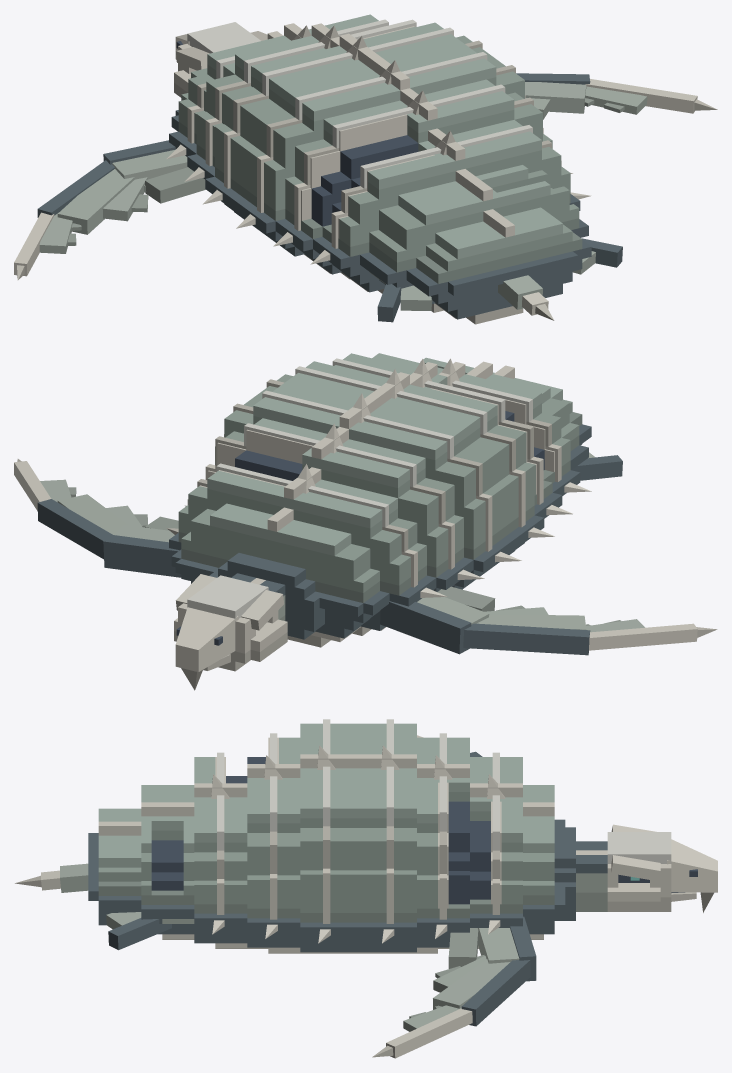
The model's file is GraveTurtle.glb.
The picture shows the model from 3 angles, top to bottom: view 1: azimuth 30°, elevation 25°; view 2: azimuth 150°, elevation 25°; view 3: azimuth 270°, elevation 25°; orthographic projection. The views are drawn at different scales.
Visible parts, largest first — view 1: Shell, WingL2, WingL1, Head, WingR3, WingR2, WingL3, Tail, FlipBL, FlipBR; view 2: Shell, Head, WingL2, WingL1, WingR2, WingR1, WingL3, WingR3, FlipBL; view 3: Shell, Head, WingR2, WingR1, WingR3, FlipBR, Tail.
Boxes of the visible parts, box(x1,y1,x2,y2) form: Shell: box(166, 14, 591, 324); WingL2: box(37, 160, 148, 234); WingL1: box(103, 140, 205, 203); Head: box(174, 22, 267, 97); WingR3: box(584, 79, 717, 114); WingR2: box(516, 73, 590, 119); WingL3: box(14, 212, 81, 280); Tail: box(498, 275, 554, 320); FlipBL: box(377, 284, 432, 322); FlipBR: box(572, 238, 622, 274); Shell: box(166, 353, 591, 647); Head: box(174, 573, 287, 690); WingL2: box(463, 605, 590, 655); WingL1: box(380, 586, 495, 654); WingR2: box(37, 494, 147, 559); WingR1: box(103, 516, 181, 577); WingL3: box(586, 619, 717, 650); WingR3: box(14, 459, 76, 510); FlipBL: box(572, 452, 622, 480); Shell: box(88, 719, 575, 953); Head: box(576, 824, 717, 912); WingR2: box(433, 955, 530, 1026); WingR1: box(448, 916, 536, 981); WingR3: box(372, 1005, 472, 1058); FlipBR: box(106, 912, 171, 950); Tail: box(15, 863, 88, 892).
Size of the model in its own units: 32.87 by 8.19 by 29.88.
